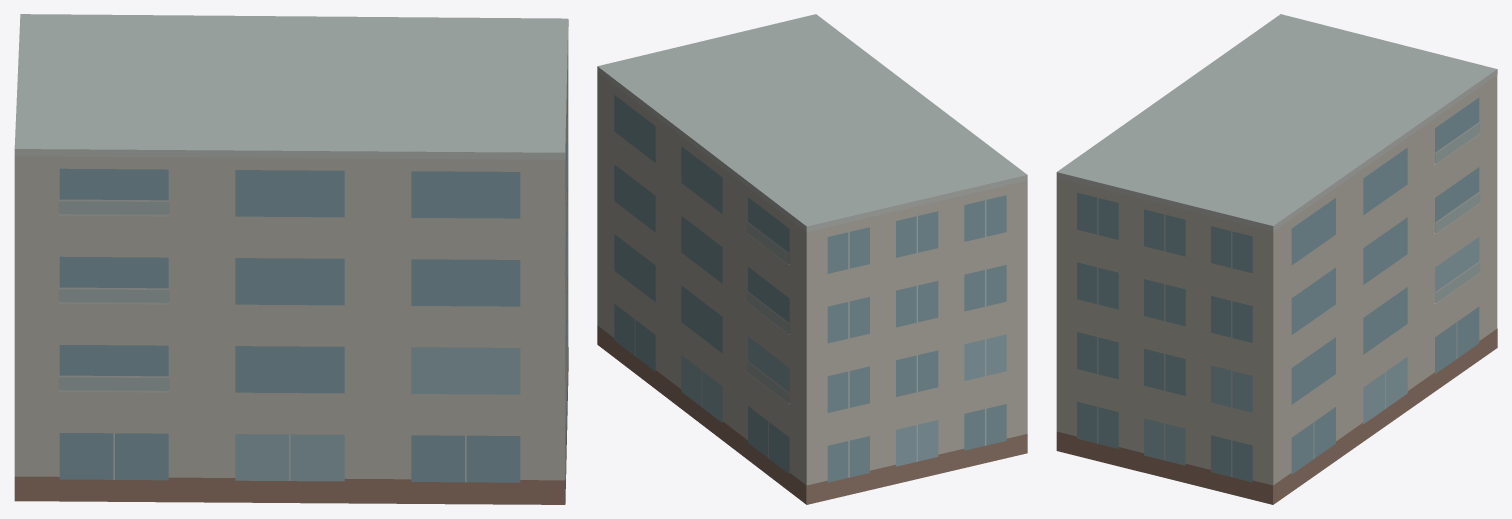
The model's file is survey-upis-32710844.glb.
3 views of the same model, side by side, from view 1: azimuth 30°, elevation 25°; view 2: azimuth 150°, elevation 25°; view 3: azimuth 270°, elevation 25° (orthographic). The views are drawn at different scales.
Visible parts, largest first — view 1: survey-upis-32710844.tmp; view 2: survey-upis-32710844.tmp; view 3: survey-upis-32710844.tmp.
Part boxes in pixels (<box>): survey-upis-32710844.tmp: <box>14,14,568,504</box>; survey-upis-32710844.tmp: <box>597,14,1027,504</box>; survey-upis-32710844.tmp: <box>1056,14,1497,504</box>.
Bounding box in the file's own units: 19.42 × 11.9 × 17.06.
